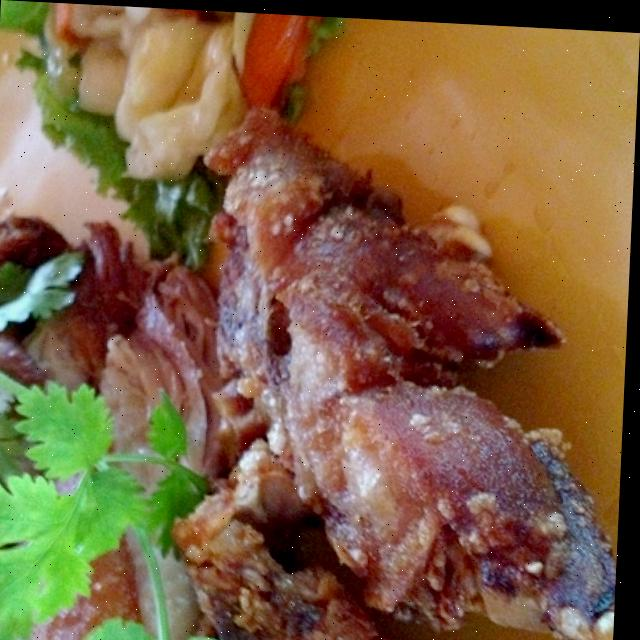猪肉菜式: (0, 25, 620, 640)
